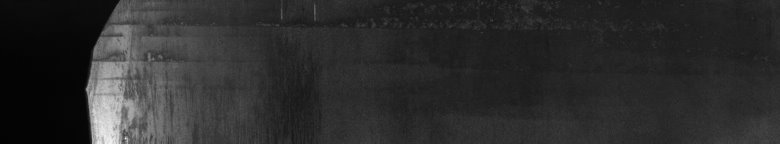kb: (91, 0, 176, 144)
